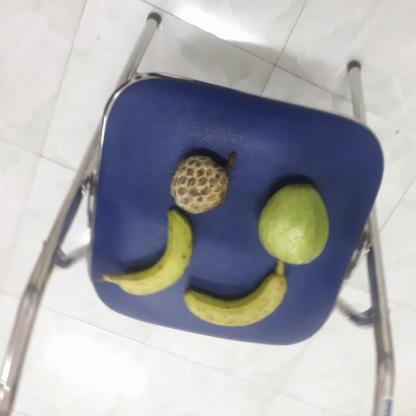annona: (170, 152, 238, 213)
banana: (113, 211, 198, 295)
guava: (259, 181, 334, 265)
